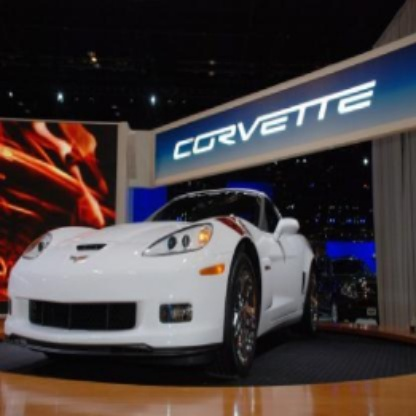Vehicle: (5, 186, 322, 366)
